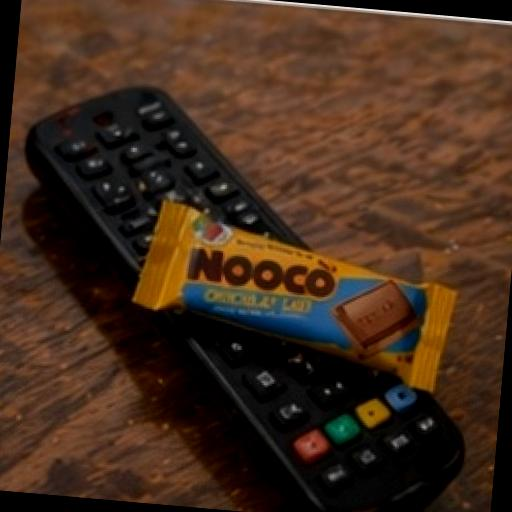nooco: (124, 177, 482, 417)
